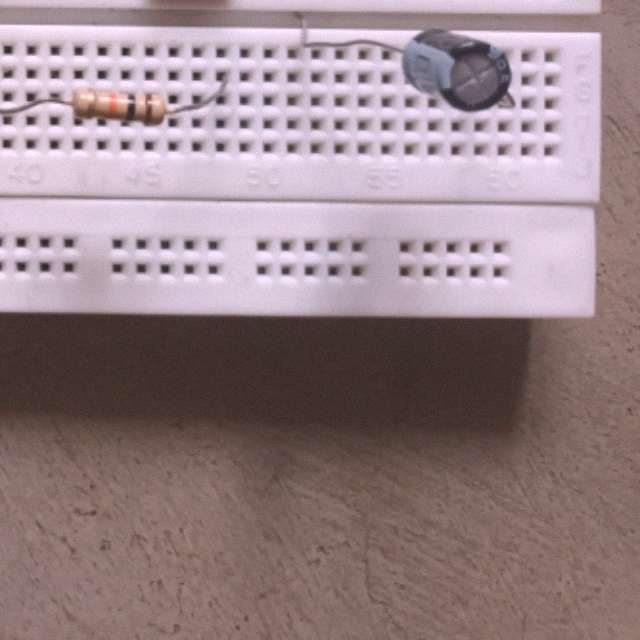capacitor: (401, 27, 513, 114)
resistor: (70, 87, 168, 127)
